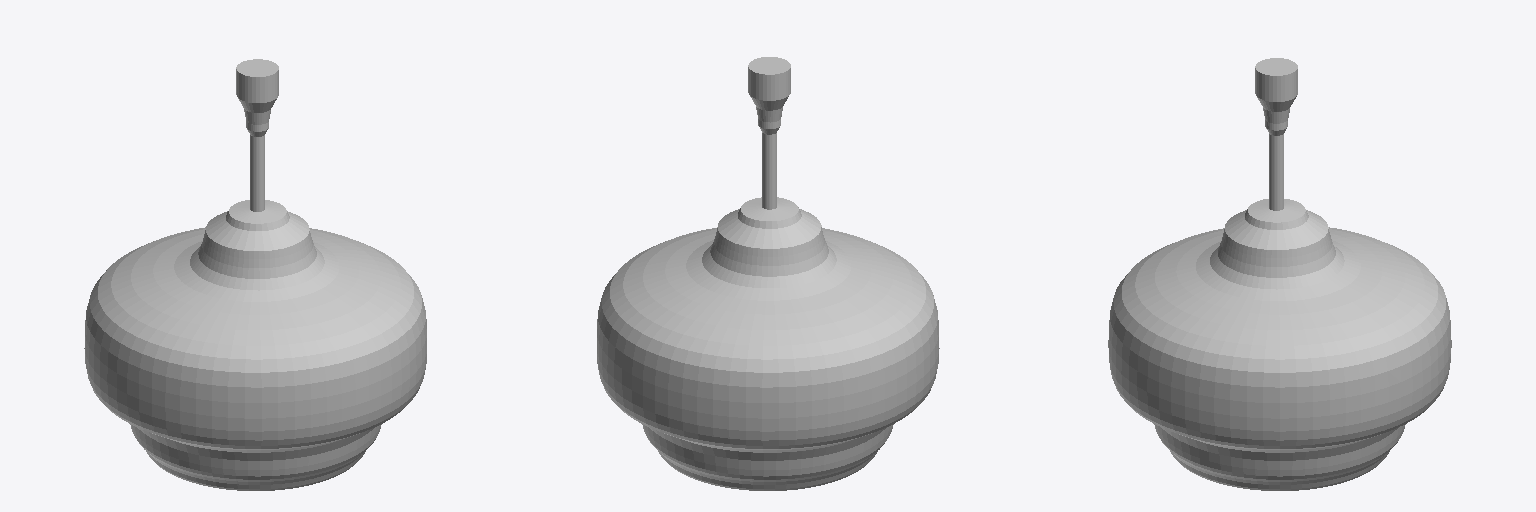
File: plafon2.obj
3 views of the same model, side by side, from view 1: azimuth 30°, elevation 25°; view 2: azimuth 150°, elevation 25°; view 3: azimuth 270°, elevation 25° (orthographic).
Parts seen in each view (by area): view 1: plafon, stick; view 2: plafon, stick; view 3: plafon, stick.
Part boxes in pixels (x1,y1,x2,y2): plafon: (84, 227, 426, 490); stick: (206, 59, 309, 250); plafon: (597, 227, 939, 490); stick: (718, 57, 821, 248); plafon: (1108, 227, 1451, 490); stick: (1225, 58, 1328, 249).
Bounding box in the file's own units: 0.5143 × 0.625 × 0.5143.